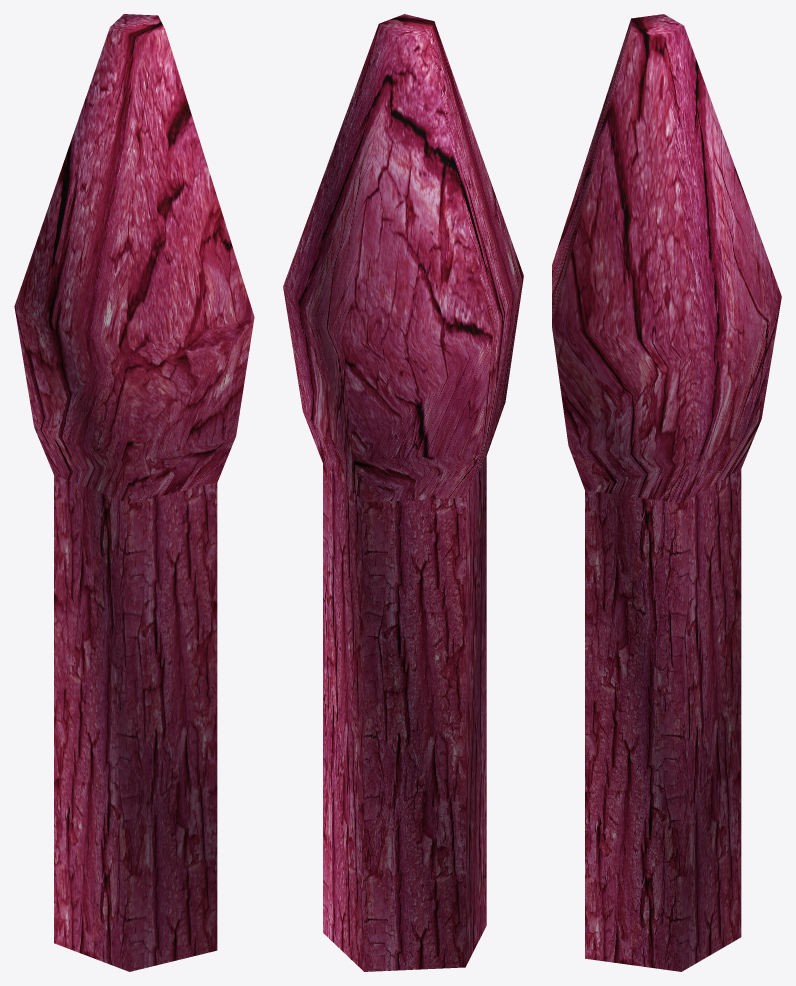
File: Plant_Tip.fbx
3 renders of one model, left to right at view 1: azimuth 30°, elevation 25°; view 2: azimuth 150°, elevation 25°; view 3: azimuth 270°, elevation 25°, orthographic.
Visible parts, largest first — view 1: Plant_Tip; view 2: Plant_Tip; view 3: Plant_Tip.
Boxes of the visible parts, <box> form: Plant_Tip: <box>14,14,254,971</box>; Plant_Tip: <box>283,14,523,971</box>; Plant_Tip: <box>552,14,781,971</box>.
Size of the model in its own units: 1964 by 8177 by 1868.
